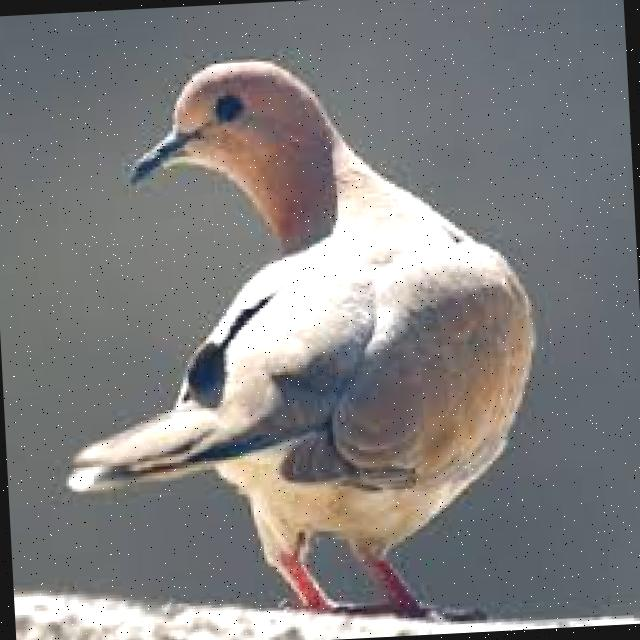dove: (36, 31, 558, 640)
